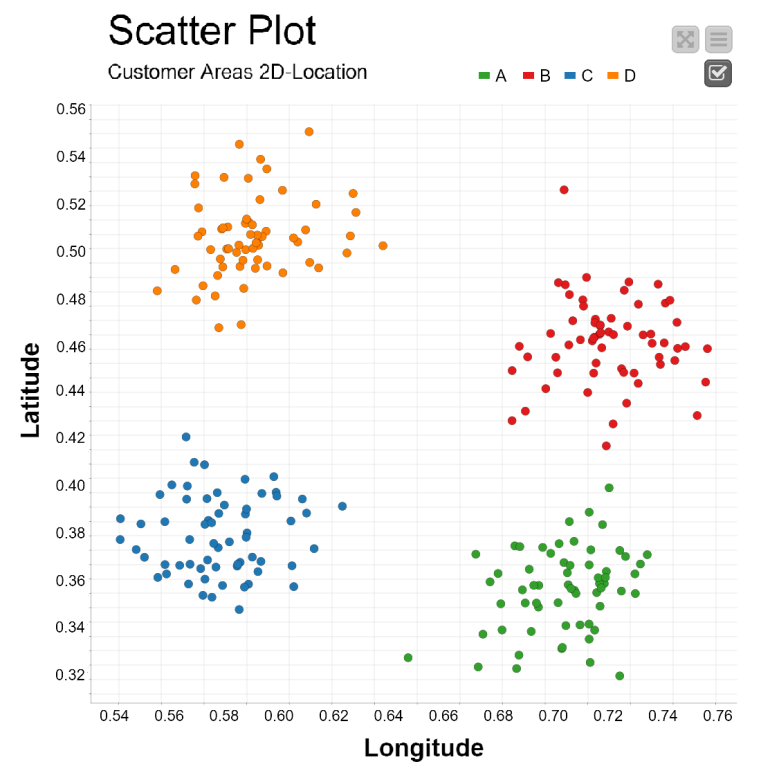canvas: (106, 119, 726, 693)
legend: (472, 61, 641, 88)
title: (90, 10, 382, 84)
x-labels: (89, 707, 746, 729)
x-title: (348, 732, 497, 764)
y-labels: (47, 96, 88, 691)
y-title: (13, 325, 44, 452)
